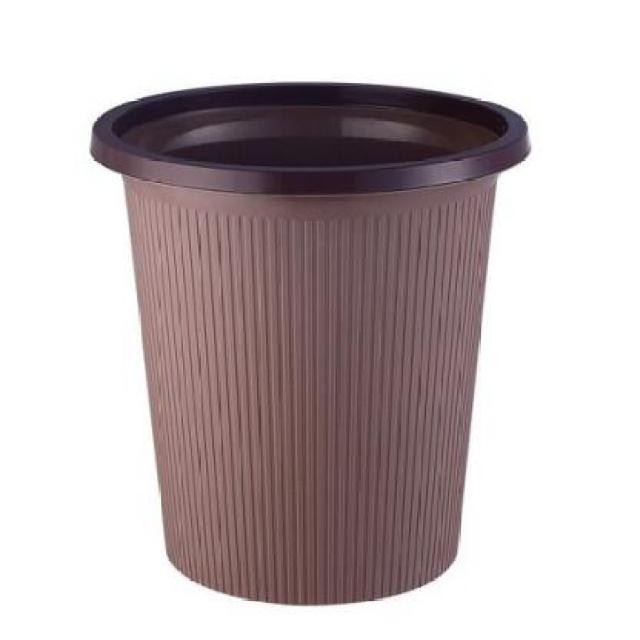dustbin: (86, 74, 538, 611)
